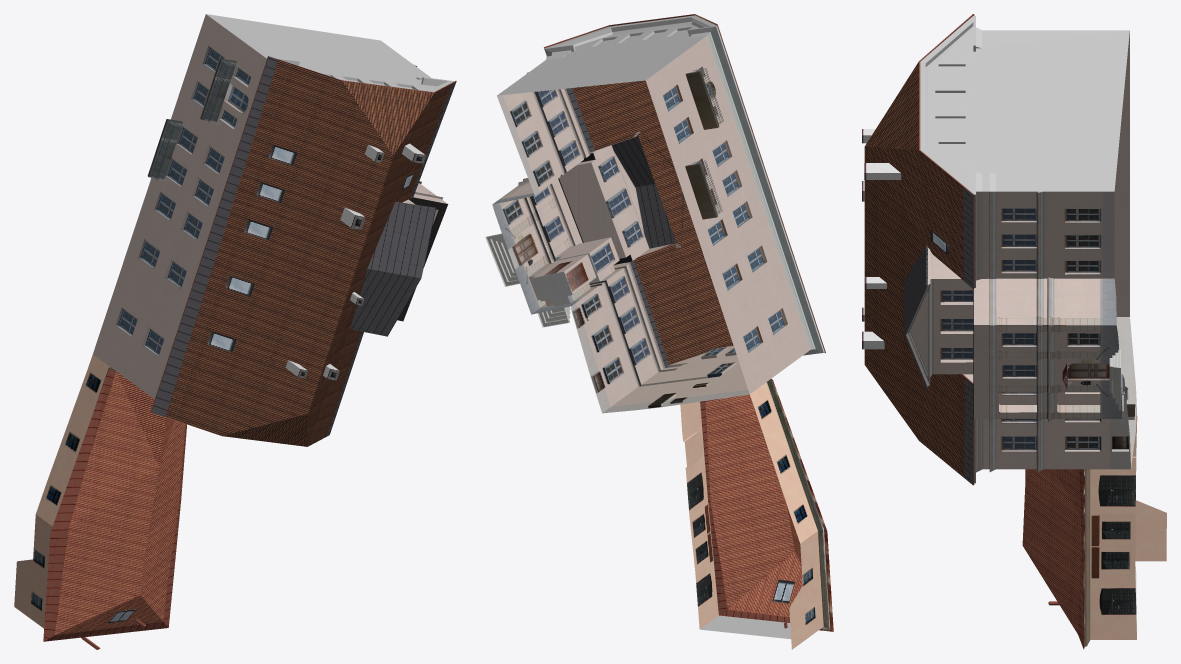
Rendered from Toom-Kooli_13.obj.
3 views of the same model, side by side, from view 1: azimuth 30°, elevation 25°; view 2: azimuth 150°, elevation 25°; view 3: azimuth 270°, elevation 25° (orthographic). The views are drawn at different scales.
Visible parts, largest first — view 1: Toom_Kooli_13; view 2: Toom_Kooli_13; view 3: Toom_Kooli_13.
Boxes of the visible parts, x1=… form: Toom_Kooli_13: x1=14, y1=14, x2=456, y2=649; Toom_Kooli_13: x1=485, y1=14, x2=833, y2=649; Toom_Kooli_13: x1=862, y1=14, x2=1166, y2=649.
Size of the model in its own units: 31.21 by 48.88 by 20.36.
